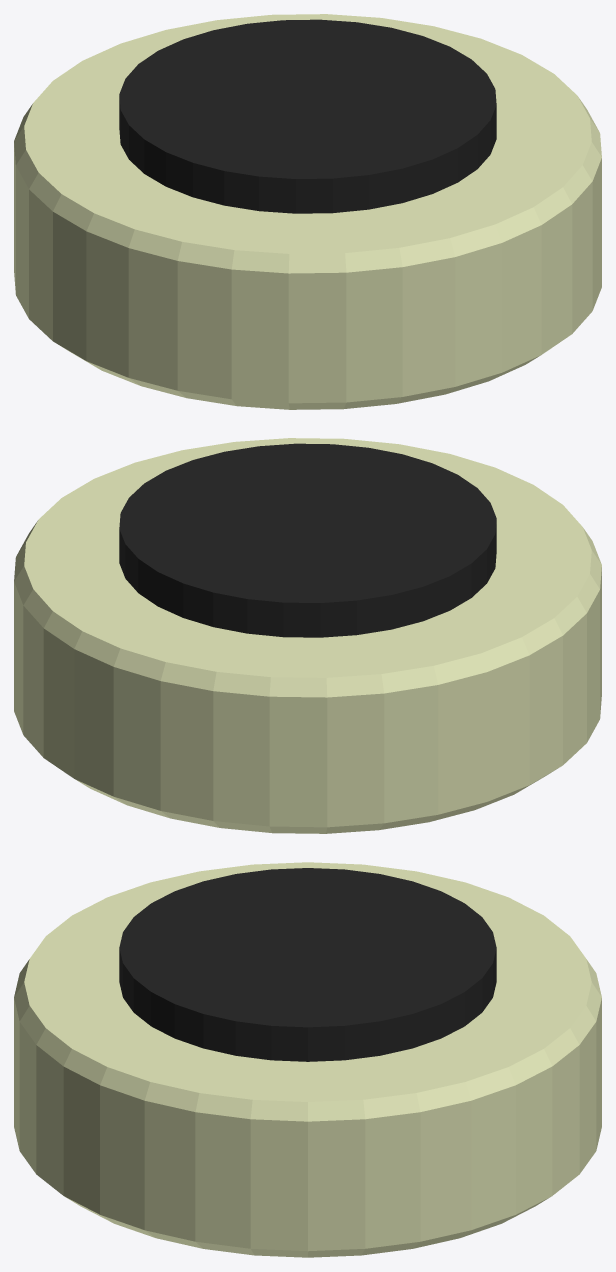
File: lampRound.fbx
The picture shows the model from 3 angles, top to bottom: view 1: azimuth 30°, elevation 25°; view 2: azimuth 150°, elevation 25°; view 3: azimuth 270°, elevation 25°; orthographic projection.
Visible parts, largest first — view 1: Cylinder; view 2: Cylinder; view 3: Cylinder.
Part boxes in pixels (left/top/right/bottom): Cylinder: left=14, top=14, right=601, bottom=409; Cylinder: left=14, top=438, right=601, bottom=833; Cylinder: left=14, top=862, right=601, bottom=1257.
Bounding box in the file's own units: 200 × 72.96 × 200.
